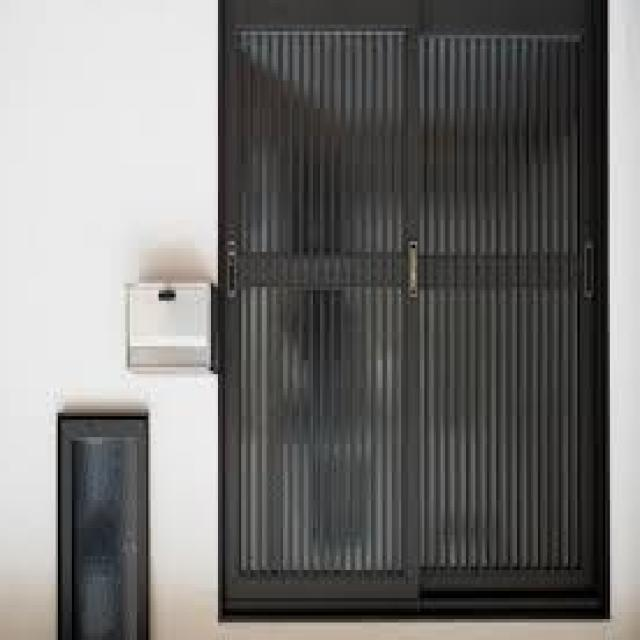door: (216, 0, 610, 623)
